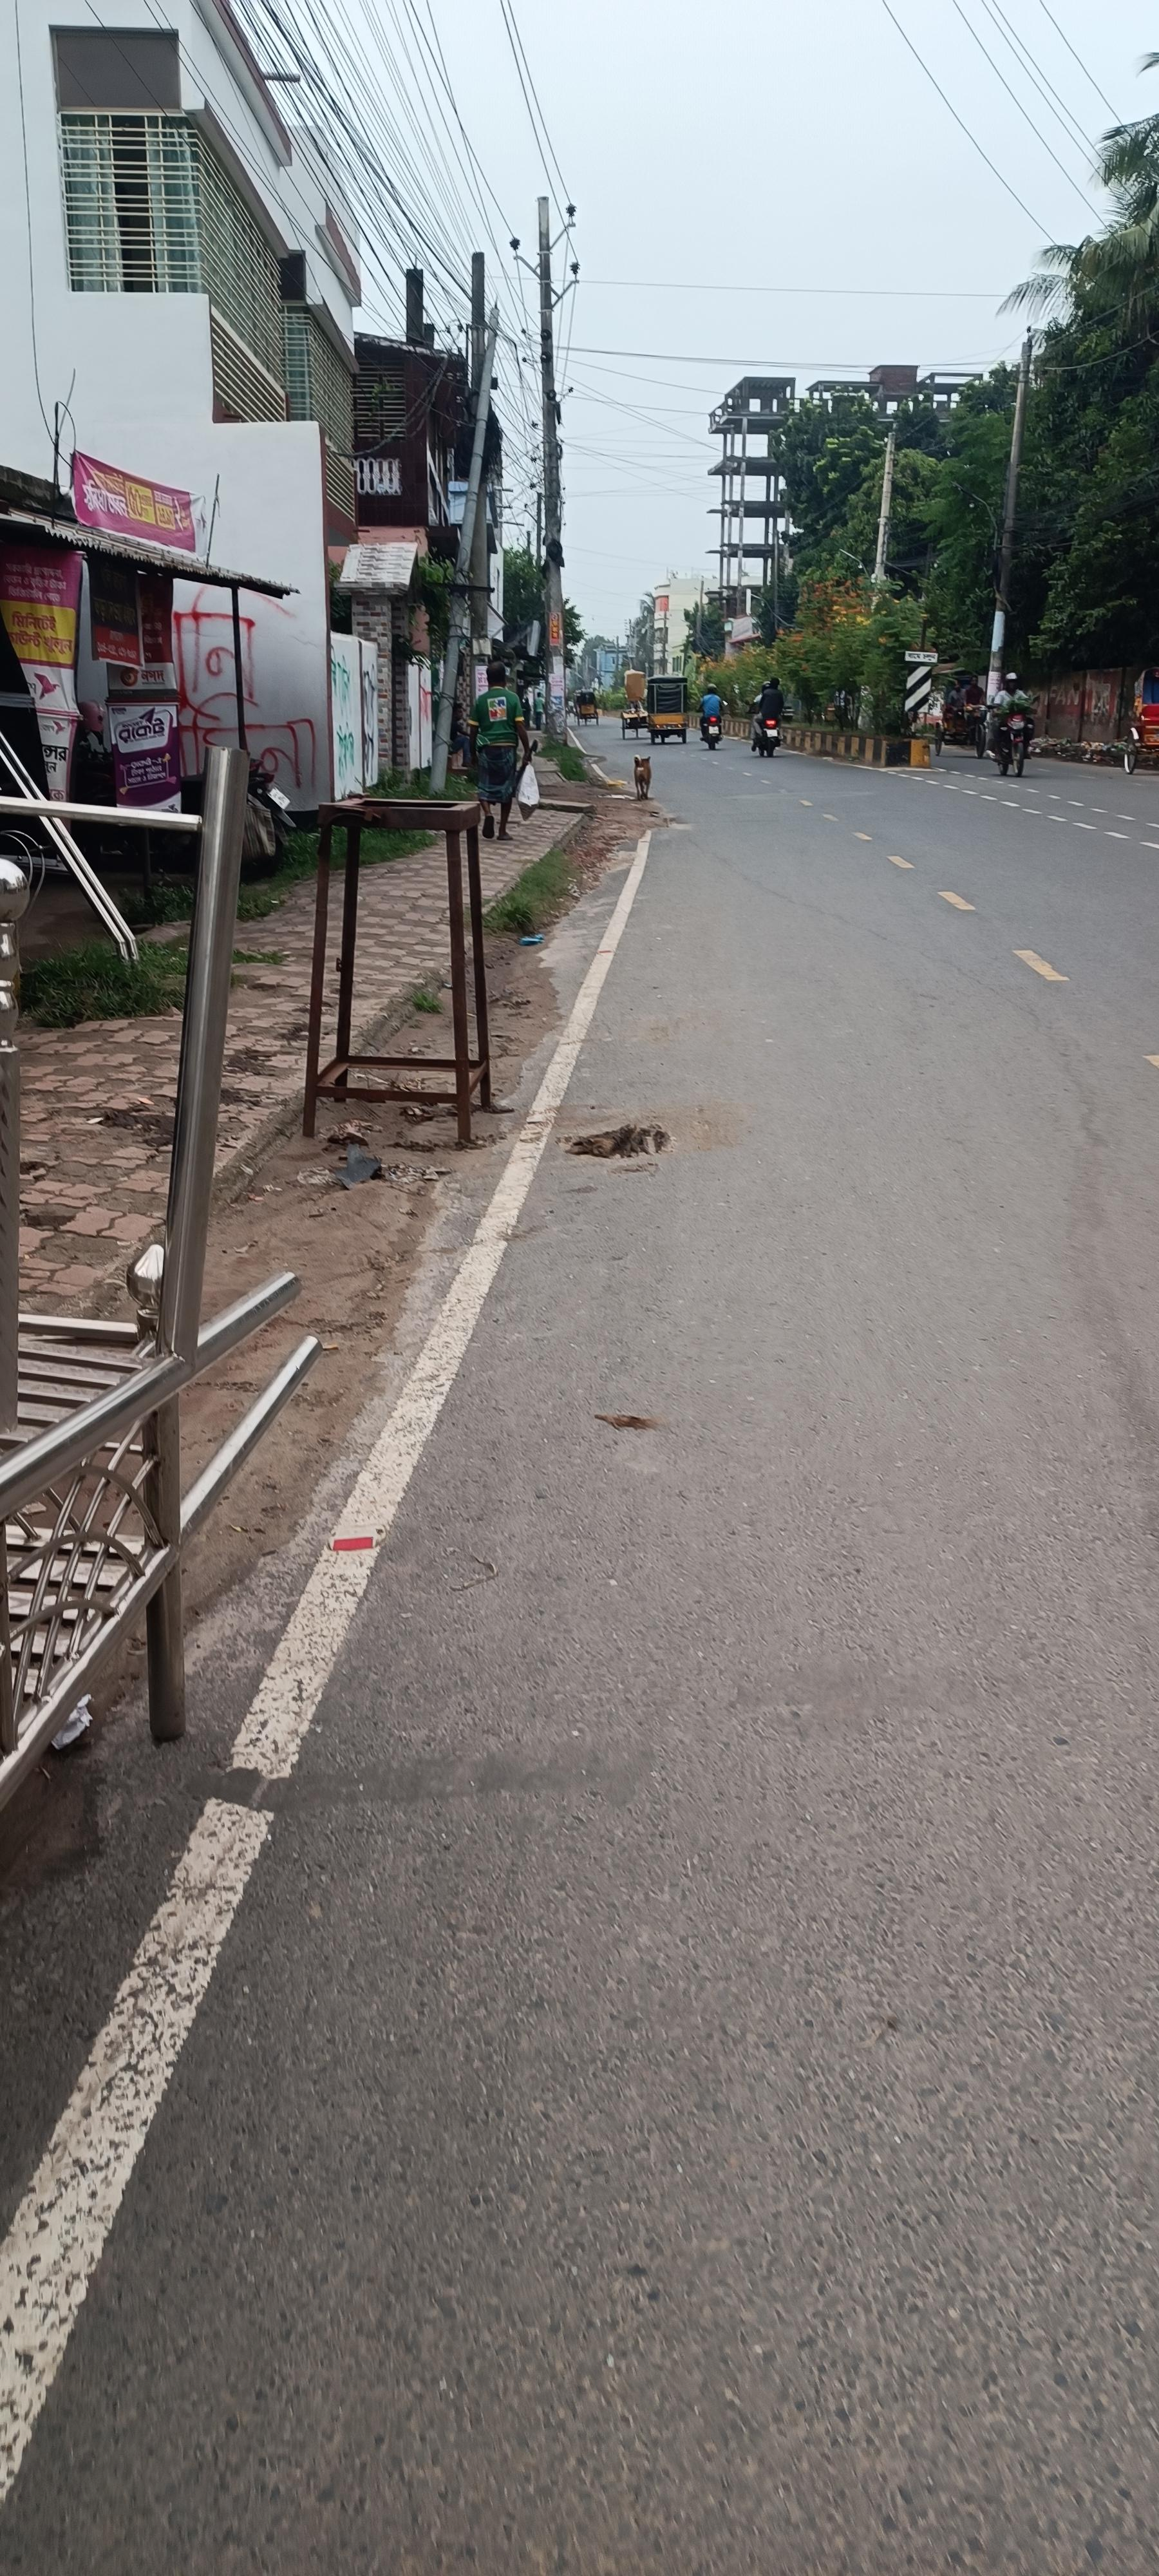Crosswalk: (634, 754, 652, 800)
Dog: (563, 1119, 670, 1158)
Fallen-tree: (992, 711, 1034, 779)
Garbage: (0, 748, 309, 2003), (300, 792, 496, 1145)
Garbage-bin: (465, 660, 534, 839), (987, 672, 1038, 766), (752, 678, 786, 756), (699, 685, 726, 749)
